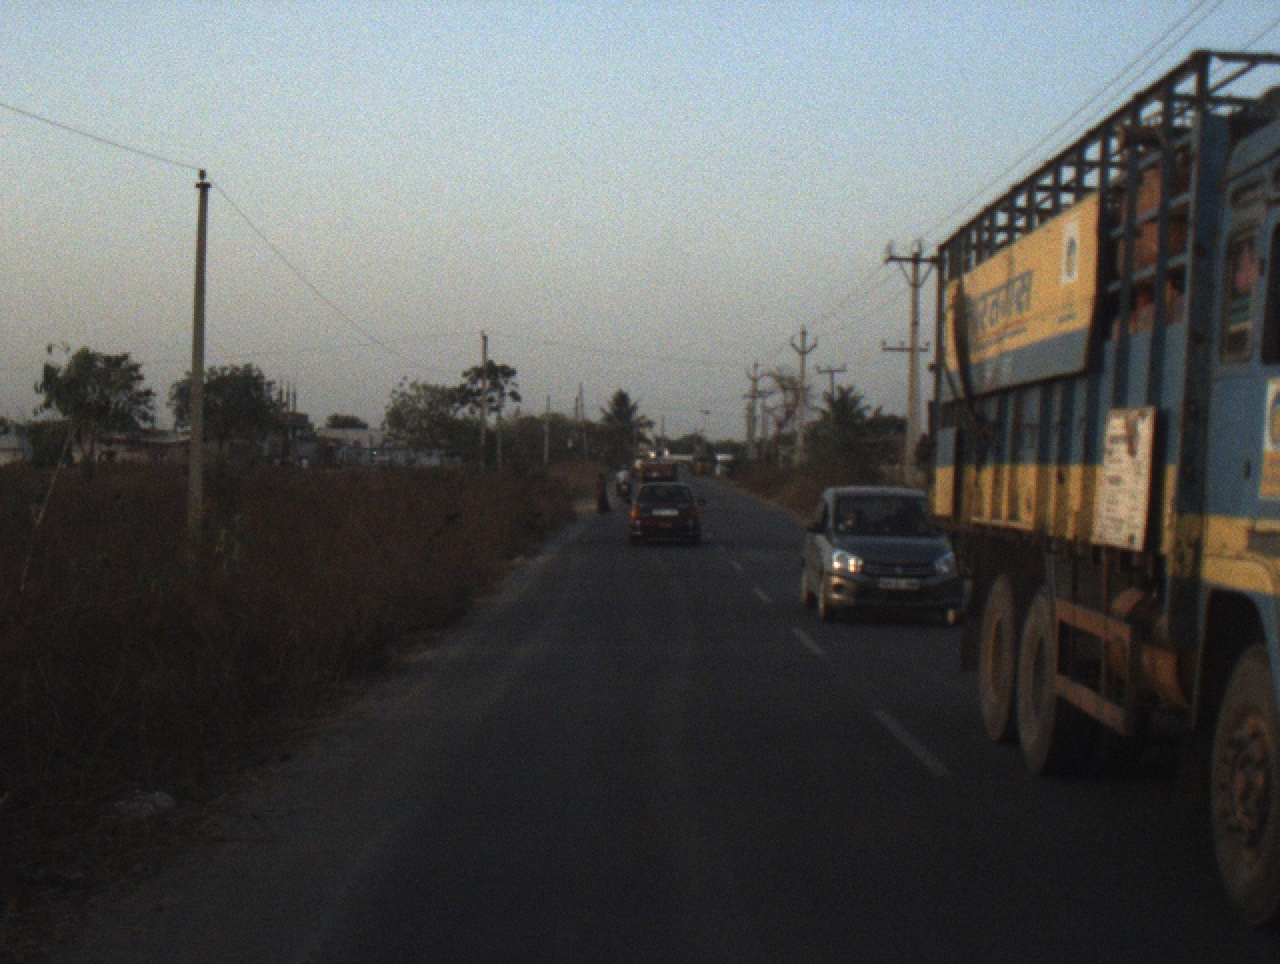autorickshaw: (693, 449, 718, 478)
car: (796, 484, 966, 626), (628, 480, 708, 545), (639, 445, 680, 487), (716, 451, 737, 479)
motorcycle: (615, 480, 633, 508)
person: (592, 471, 613, 515)
rider: (614, 463, 633, 500), (633, 454, 643, 477)
truck: (939, 54, 1279, 930)
